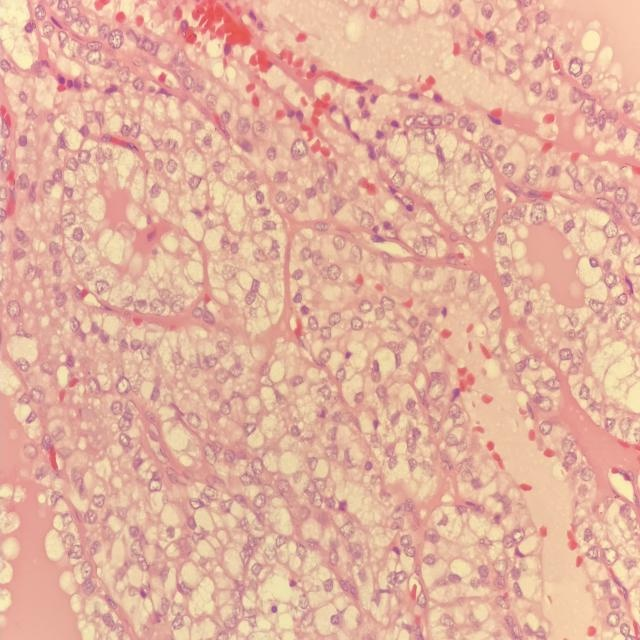TC: (454, 264, 495, 304), (281, 129, 314, 176), (243, 109, 274, 154), (88, 265, 117, 311), (525, 196, 554, 236), (214, 257, 248, 289), (244, 486, 276, 520), (109, 367, 136, 407), (2, 291, 28, 332), (311, 337, 341, 372), (66, 236, 94, 273), (182, 399, 209, 437), (318, 257, 350, 289), (209, 355, 236, 391), (424, 373, 450, 410), (43, 283, 74, 314), (350, 289, 378, 323), (249, 446, 275, 482), (242, 180, 271, 212), (524, 344, 550, 376), (10, 133, 36, 163), (75, 139, 95, 177), (355, 206, 382, 234), (237, 417, 263, 445), (183, 166, 205, 198), (489, 137, 511, 168), (492, 226, 518, 252), (221, 445, 239, 475)
